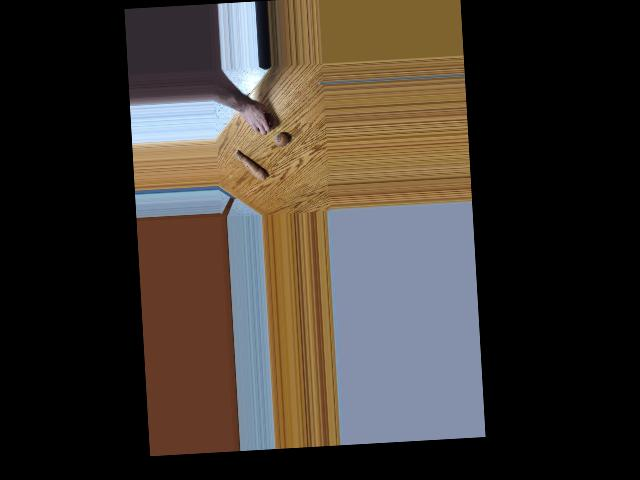onion: (257, 111, 273, 128)
